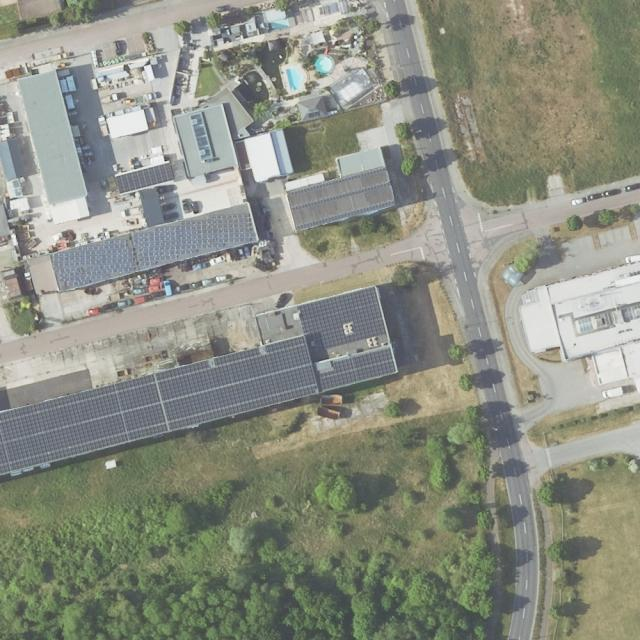PV: (0, 335, 318, 474), (133, 214, 252, 266), (296, 286, 386, 352), (54, 239, 133, 285), (315, 347, 395, 391), (114, 162, 173, 194), (189, 113, 211, 159)
